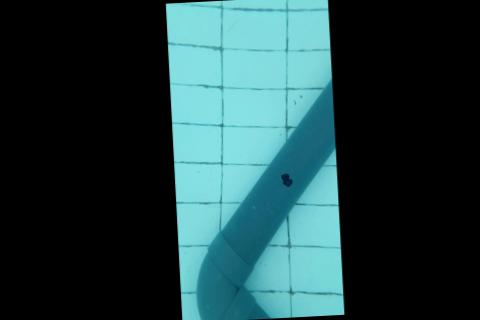kebocoran: (279, 171, 294, 189)
